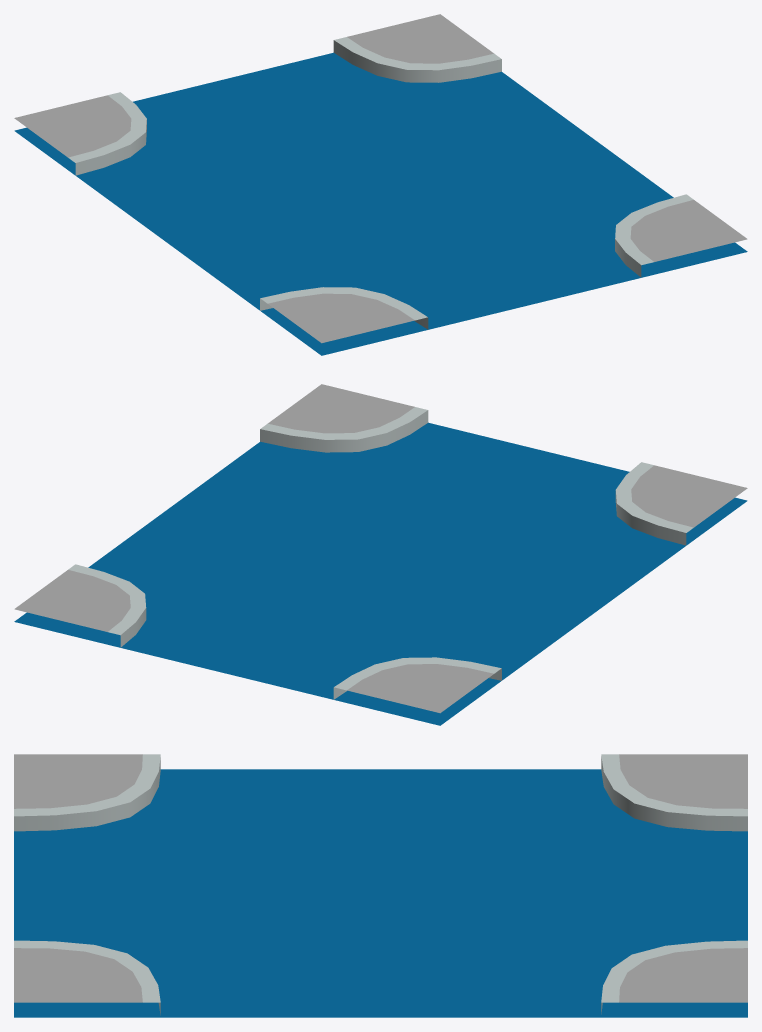
The model's file is Intersection_Wide_Narrow.fbx.
3 renders of one model, top to bottom at view 1: azimuth 30°, elevation 25°; view 2: azimuth 150°, elevation 25°; view 3: azimuth 270°, elevation 25°, orthographic. The views are drawn at different scales.
Parts seen in each view (by area): view 1: Intersection_Wide_Narrow; view 2: Intersection_Wide_Narrow; view 3: Intersection_Wide_Narrow.
Boxes of the visible parts, box(x1,y1,x2,y2) form: Intersection_Wide_Narrow: box(14, 14, 747, 355); Intersection_Wide_Narrow: box(14, 384, 747, 725); Intersection_Wide_Narrow: box(14, 754, 747, 1017).
Size of the model in its own units: 800 by 22.59 by 1000.
